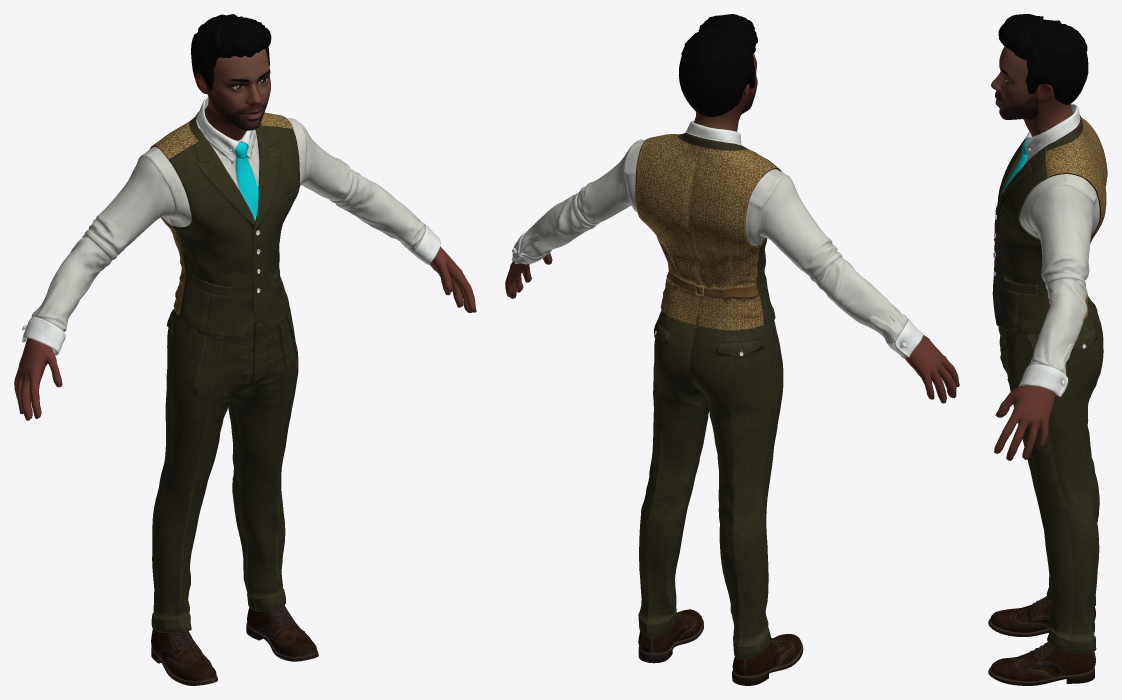
The model's file is note with business suit.glb.
3 views of the same model, side by side, from view 1: azimuth 30°, elevation 25°; view 2: azimuth 150°, elevation 25°; view 3: azimuth 270°, elevation 25° (orthographic).
Parts seen in each view (by area): view 1: Object_15, Object_19, Object_7, Object_13, Head.001, Body.001, Hair.002; view 2: Object_15, Object_19, Object_7, Hair.002, Object_13, Body.001, Head.001; view 3: Object_15, Object_7, Object_19, Hair.002, Object_13, Head.001, Body.001.
Boxes of the visible parts, bbox=[...] form: Object_15: bbox=[151, 307, 298, 632]; Object_19: bbox=[150, 112, 299, 338]; Object_7: bbox=[22, 96, 440, 355]; Object_13: bbox=[151, 605, 318, 685]; Head.001: bbox=[195, 49, 270, 140]; Body.001: bbox=[14, 246, 476, 420]; Hair.002: bbox=[191, 14, 271, 90]; Object_15: bbox=[638, 310, 783, 659]; Object_19: bbox=[635, 132, 781, 330]; Object_7: bbox=[512, 120, 923, 358]; Hair.002: bbox=[678, 14, 757, 117]; Object_13: bbox=[638, 609, 803, 685]; Body.001: bbox=[505, 253, 959, 403]; Head.001: bbox=[687, 53, 757, 144]; Object_15: bbox=[998, 296, 1103, 654]; Object_7: bbox=[1003, 103, 1099, 397]; Object_19: bbox=[992, 115, 1107, 333]; Hair.002: bbox=[998, 14, 1088, 104]; Object_13: bbox=[988, 596, 1095, 685]; Head.001: bbox=[991, 46, 1079, 137]; Body.001: bbox=[994, 238, 1055, 460].
Bounding box in the file's own units: 1.51 × 2.07 × 0.3525.
Materials: 13 (9 with a texture image).
